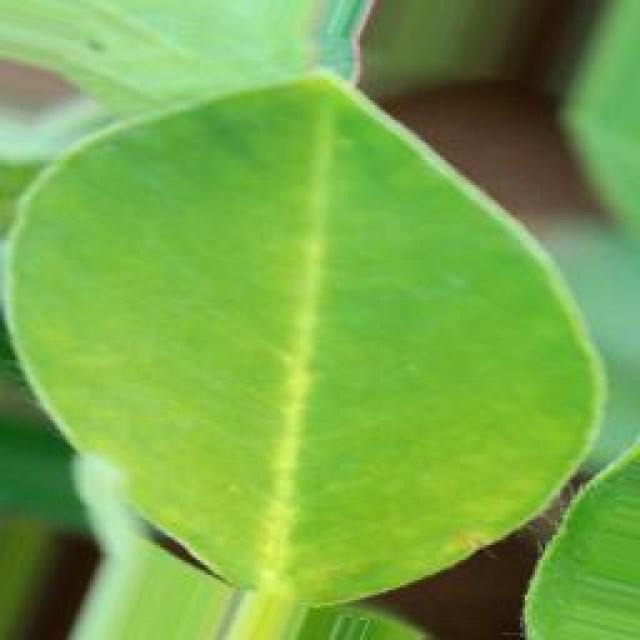Yellow_and_black_sigatoka: (0, 50, 592, 595)
